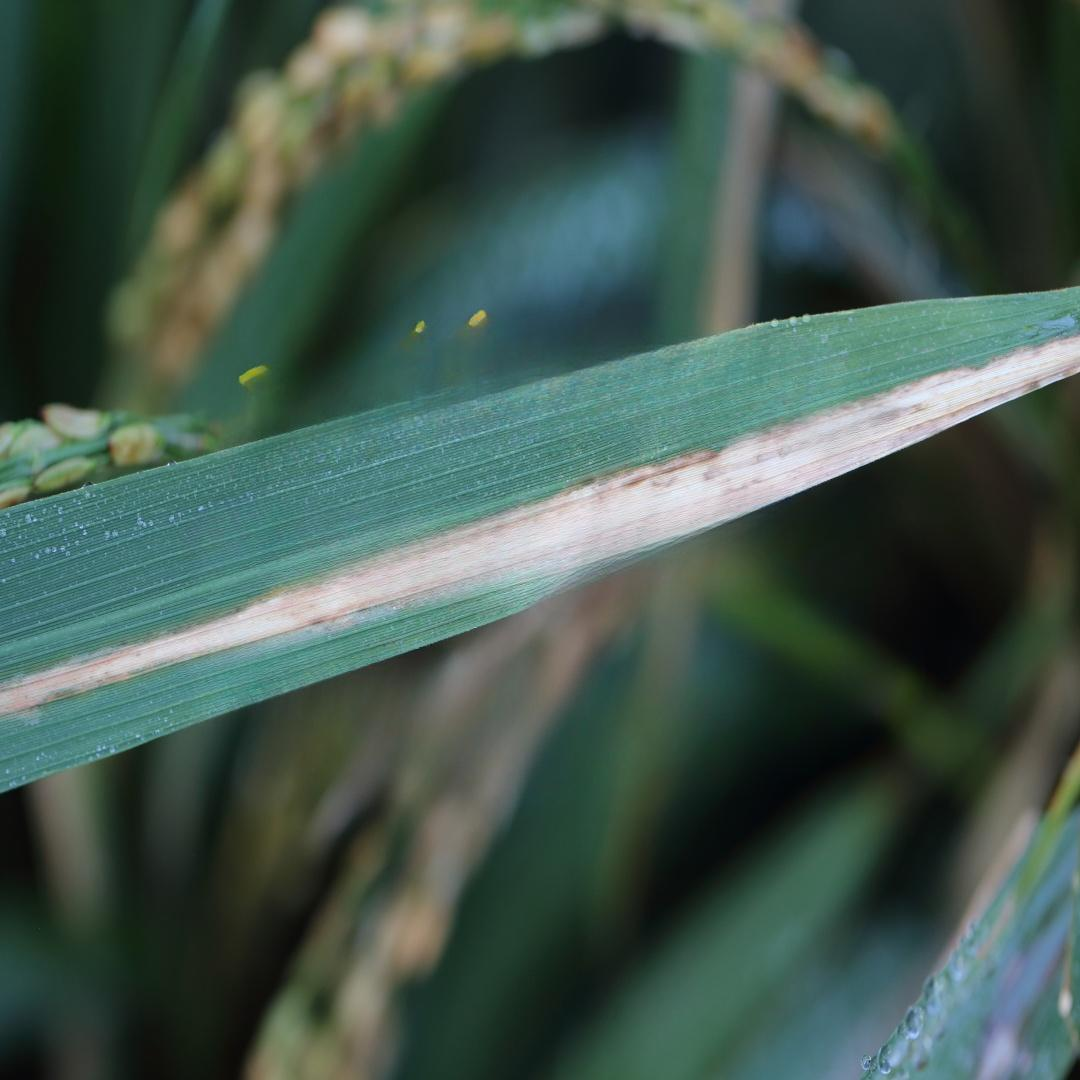BLB: (0, 339, 1079, 718)
